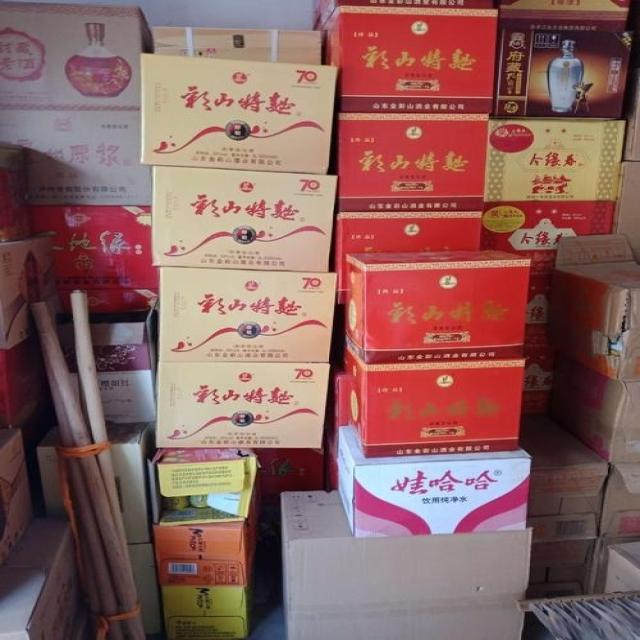box: (280, 490, 532, 640), (138, 52, 338, 175), (344, 249, 531, 366), (338, 426, 532, 536), (150, 165, 337, 272), (344, 349, 522, 457), (323, 6, 499, 113), (159, 267, 337, 362), (0, 1, 152, 108), (155, 361, 330, 448), (338, 113, 490, 212), (0, 107, 151, 205), (330, 211, 483, 304), (549, 233, 640, 384), (492, 28, 634, 119), (485, 120, 626, 201), (29, 204, 157, 291), (521, 419, 609, 543), (480, 201, 616, 279), (552, 353, 640, 462), (154, 498, 257, 587), (147, 449, 261, 526), (90, 297, 157, 424), (152, 26, 321, 64), (106, 422, 155, 545), (161, 586, 251, 640)
